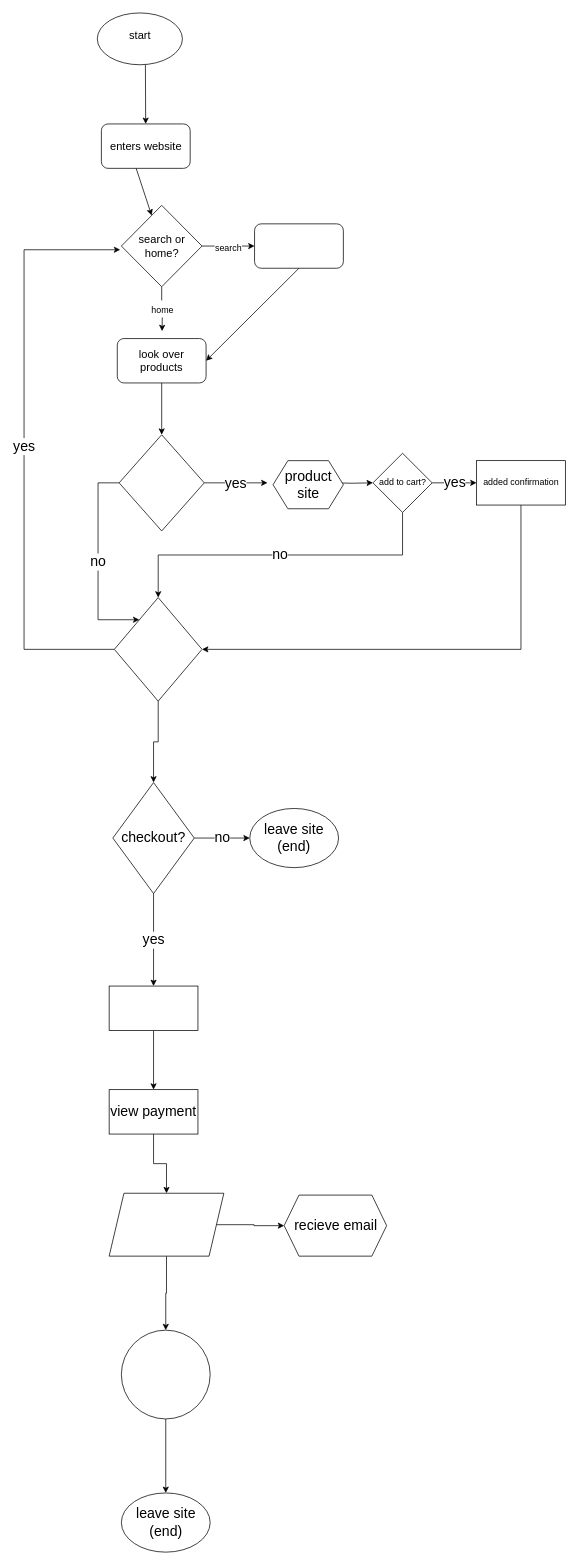
This 578x1565 diagram has some shape labels left out. Each missing label, with the centre of its shape:
"continue shopping?" goes at (158,649).
"enter input" goes at (298,245).
"input payment method" goes at (166,1224).
"order confirmation screen" goes at (165,1374).
"view cart" goes at (153,1007).
"will I view this product?" goes at (161,482).
